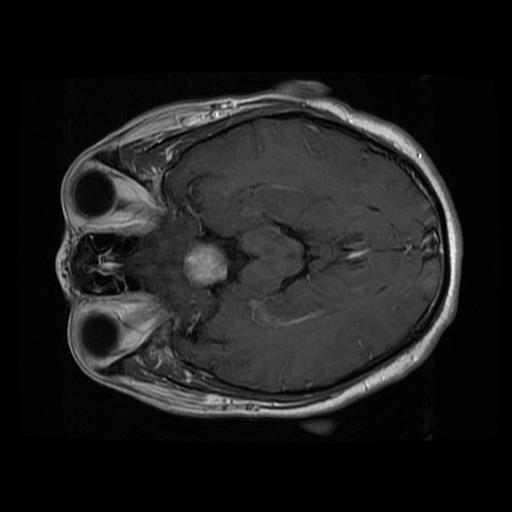pituitary tumour: (183, 239, 226, 288)
